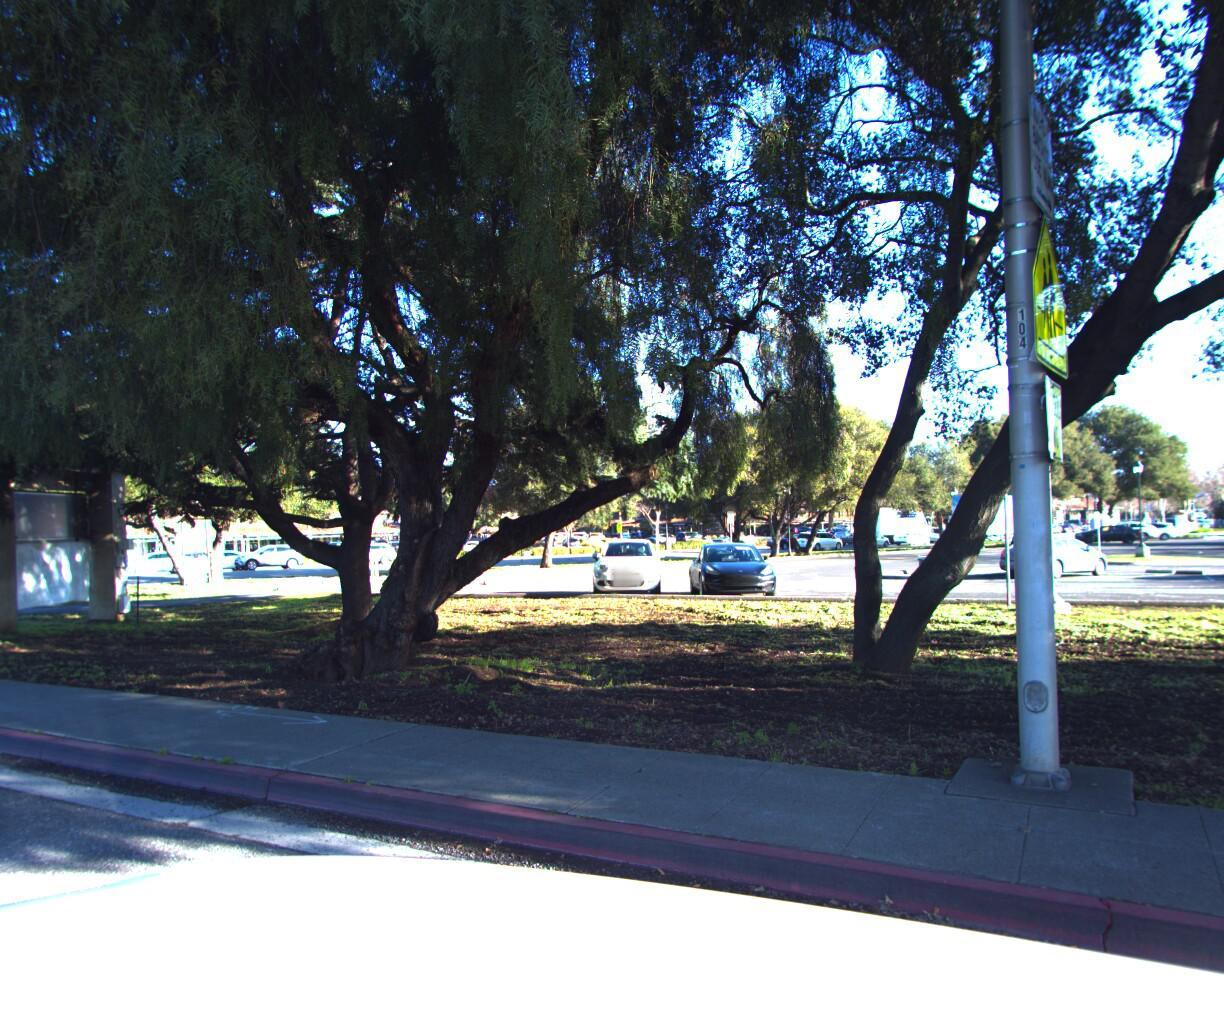car: (110, 542, 198, 570), (229, 537, 308, 564), (323, 535, 400, 561), (791, 521, 844, 543), (705, 525, 757, 545), (888, 523, 930, 539)
